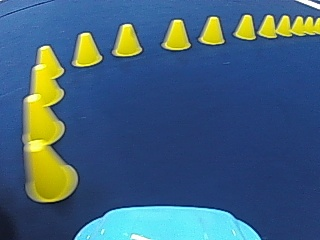cone: (22, 142, 77, 200), (20, 94, 64, 144), (28, 59, 64, 105), (71, 31, 103, 67), (111, 22, 142, 57), (34, 44, 64, 80), (161, 18, 191, 50), (198, 14, 225, 45), (233, 13, 255, 40), (257, 14, 276, 38), (275, 14, 291, 36), (290, 15, 304, 34), (303, 16, 314, 33), (312, 17, 319, 33)
